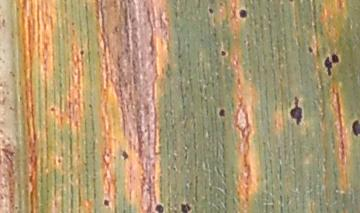tarspot: (289, 96, 303, 125), (323, 56, 333, 76), (351, 119, 360, 135), (180, 203, 192, 213), (238, 8, 248, 19), (154, 204, 165, 213), (217, 107, 226, 118), (121, 150, 129, 160), (331, 54, 339, 64), (103, 199, 111, 207), (220, 49, 227, 58), (307, 46, 314, 55), (207, 8, 215, 15), (48, 105, 56, 112), (78, 49, 85, 55)
